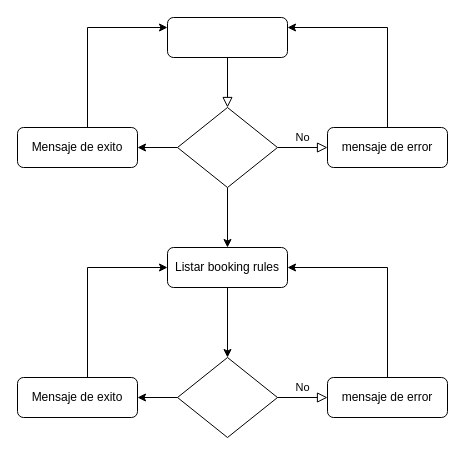
This 465x455 diagram has some shape labels left out. The shapes that lost their labels are listed below. From the top down, each one's centre as x and y in pixels, then its label:
the point at 227,37: listar planes tarifarios
the point at 227,147: Crear planes tarifarios
the point at 227,397: Crear booking rules
